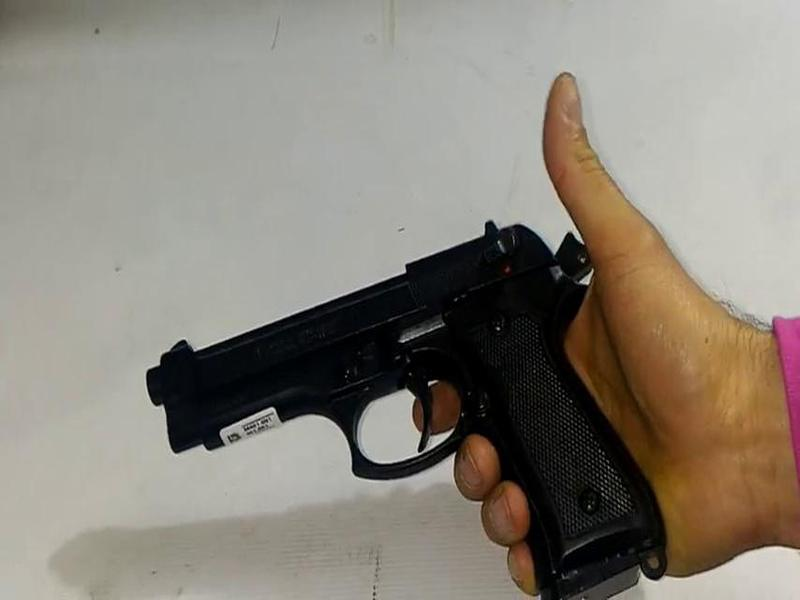Pistola: (127, 194, 701, 591)
